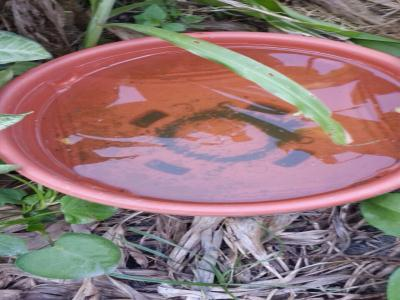bowl: (4, 29, 399, 220)
